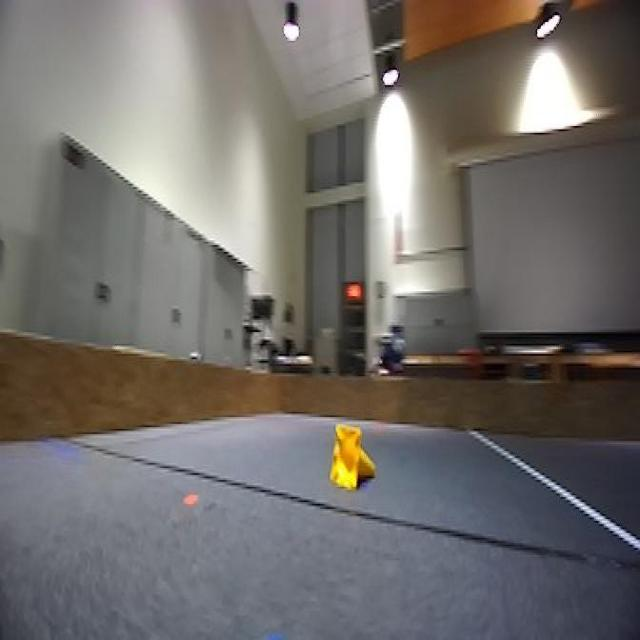frc_cone: (326, 426, 373, 498)
